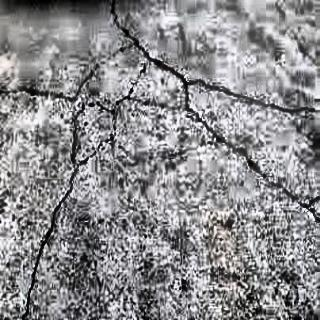alligator-crack: (60, 23, 198, 156)
crack: (171, 82, 320, 215), (21, 167, 73, 320), (105, 7, 192, 85), (181, 74, 320, 118), (2, 82, 58, 101)
